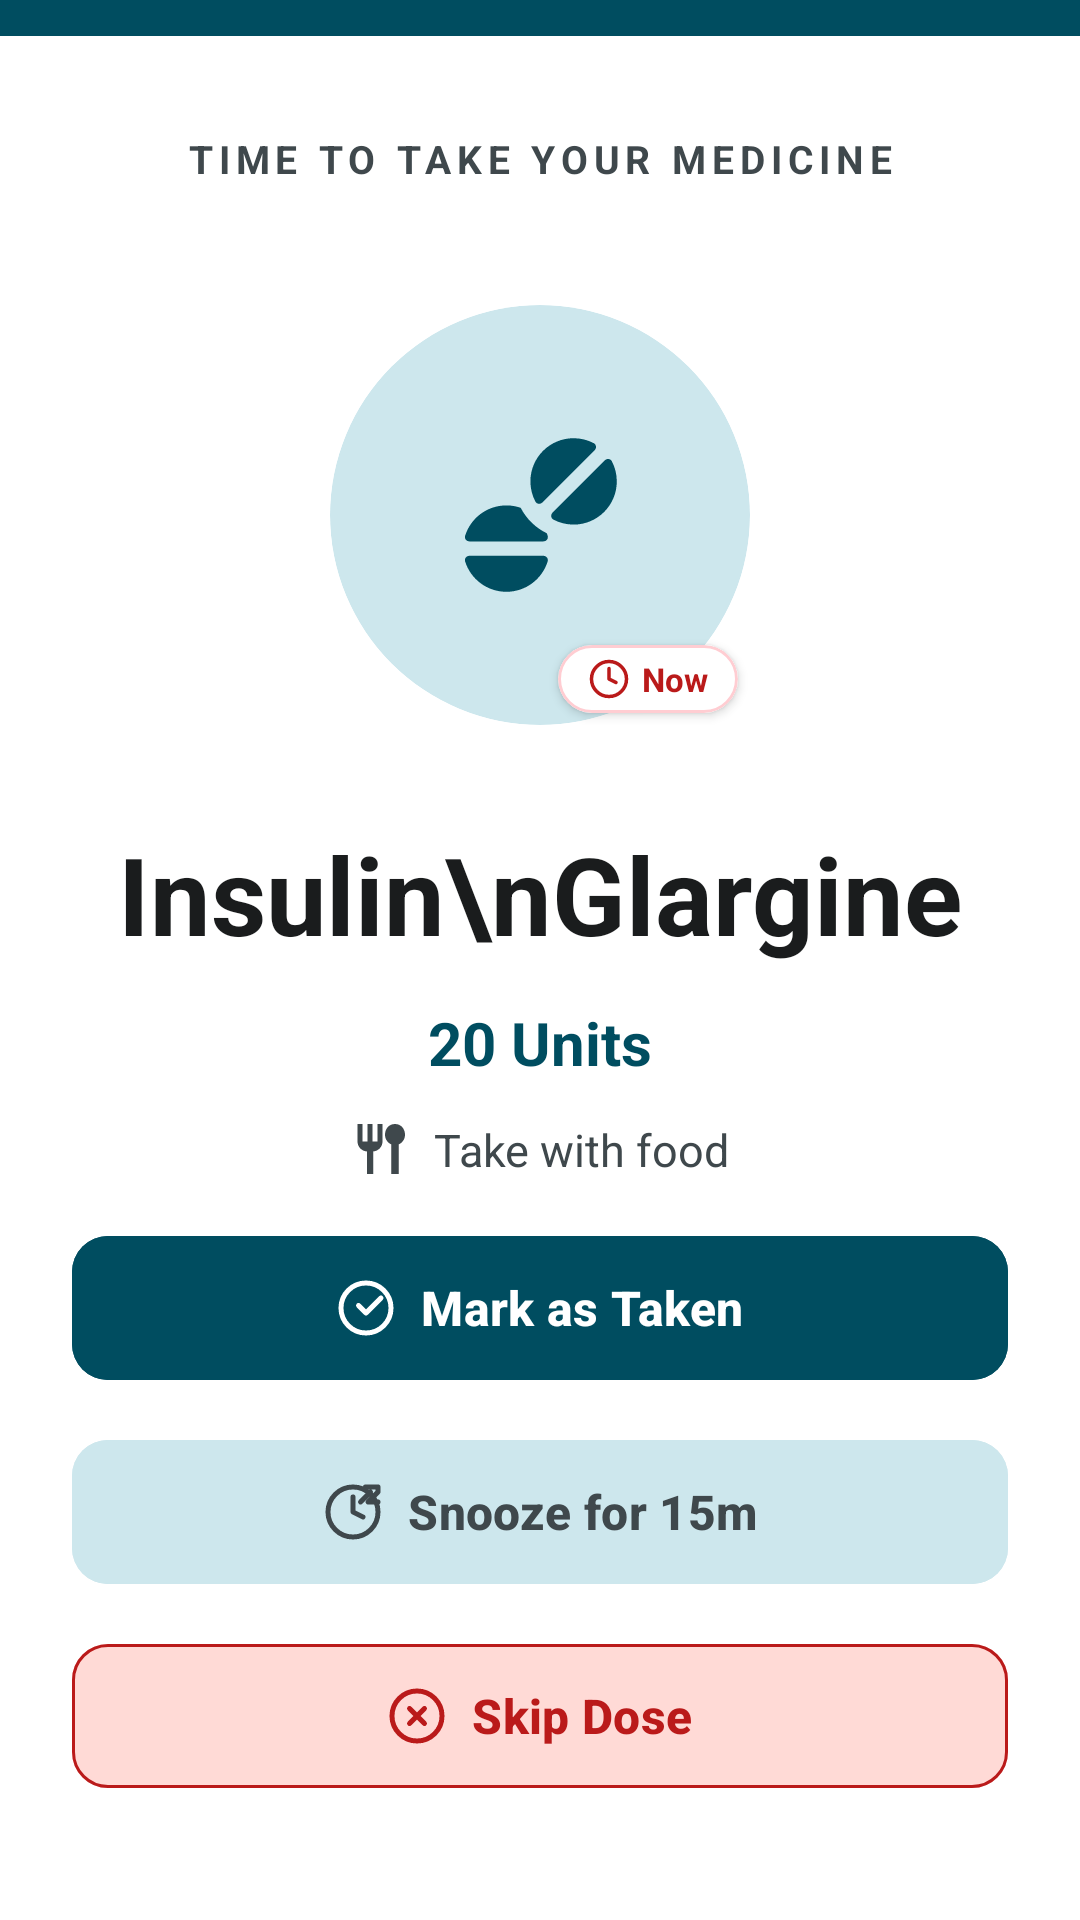

Icon click points for this 1080w x 1920h phone screenshot, format (x=x, y=y):
clock: (x=609, y=679)
Medicine Icon: (x=541, y=515)
restaurant: (x=381, y=1149)
